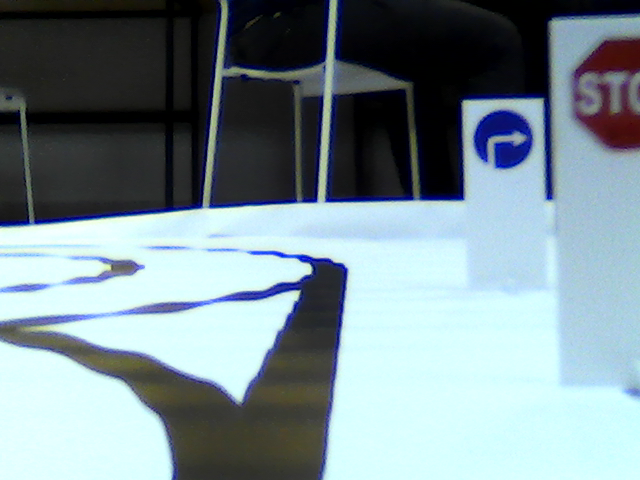Right: (472, 111, 536, 168)
Stop: (566, 30, 640, 155)
